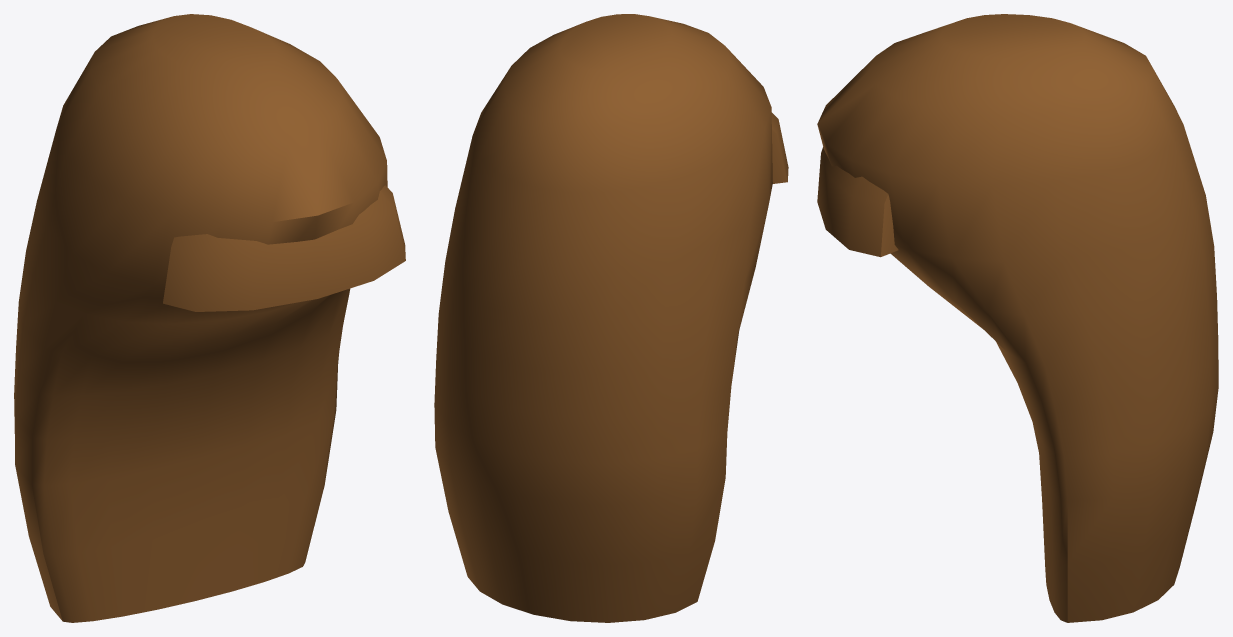
The model's file is npc_hair1.glb.
3 renders of one model, left to right at view 1: azimuth 30°, elevation 25°; view 2: azimuth 150°, elevation 25°; view 3: azimuth 270°, elevation 25°, orthographic. The views are drawn at different scales.
Visible parts, largest first — view 1: npc_hair1; view 2: npc_hair1; view 3: npc_hair1.
Part boxes in pixels (<box>): npc_hair1: <box>14,14,405,622</box>; npc_hair1: <box>434,14,788,622</box>; npc_hair1: <box>817,14,1218,622</box>.
Size of the model in its own units: 0.176 by 0.314 by 0.2149.
